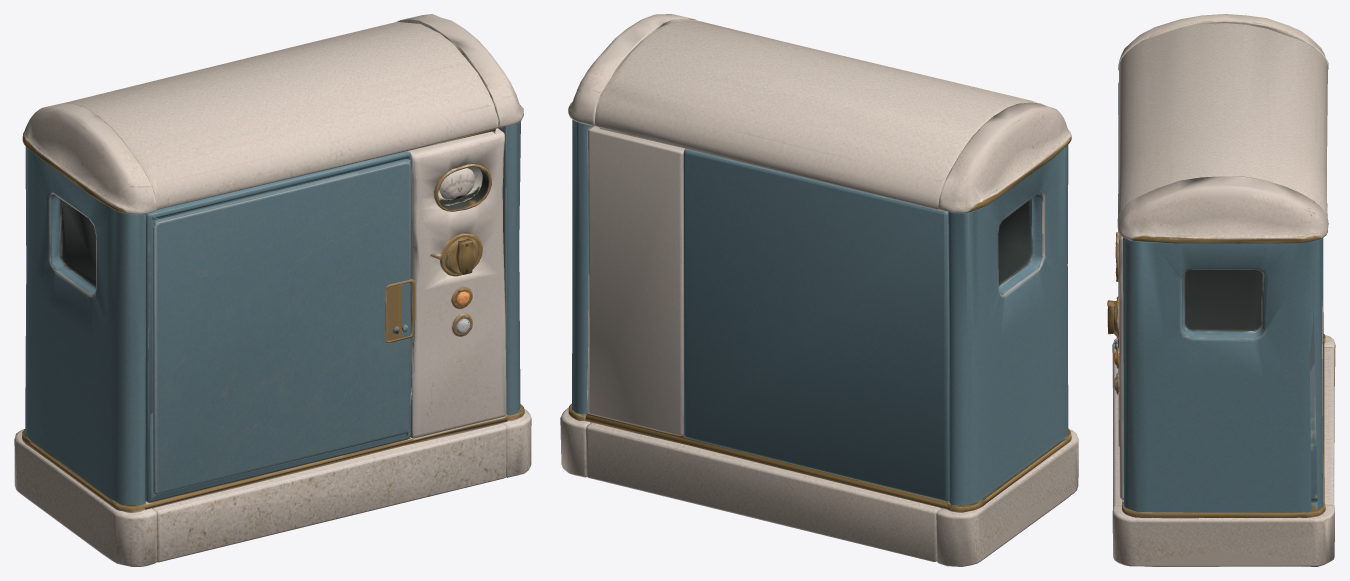
The model's file is civic-service-cabinet-c-v1.glb.
The picture shows the model from 3 angles, left to right: view 1: azimuth 30°, elevation 25°; view 2: azimuth 150°, elevation 25°; view 3: azimuth 270°, elevation 25°; orthographic projection. The views are drawn at different scales.
Size of the model in its own units: 1 by 0.9332 by 0.5149.
Materials: 1 (1 with a texture image).
